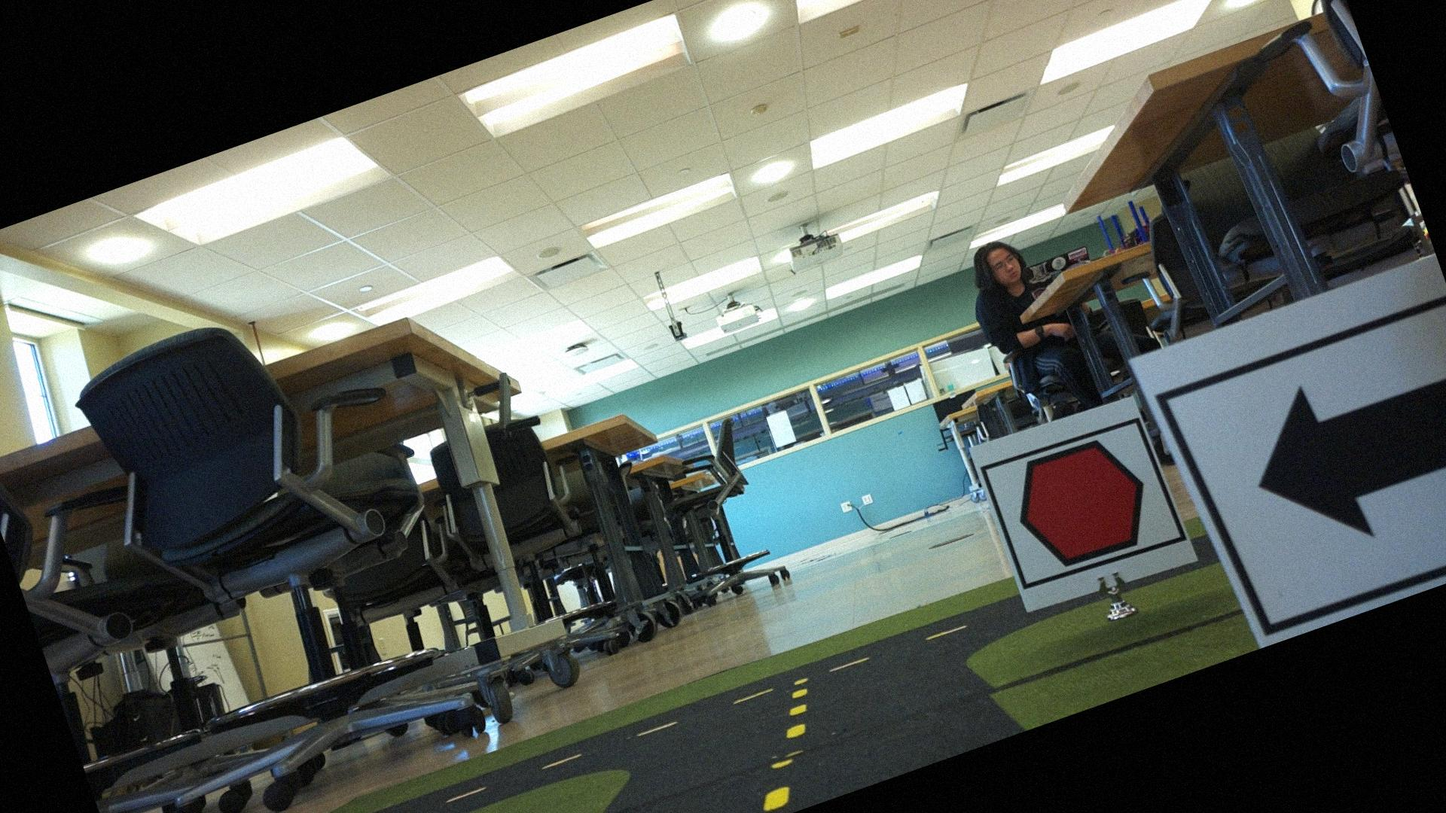stop: (981, 419, 1178, 592)
turnright: (1170, 299, 1445, 635)
yellowline: (729, 684, 844, 812)
